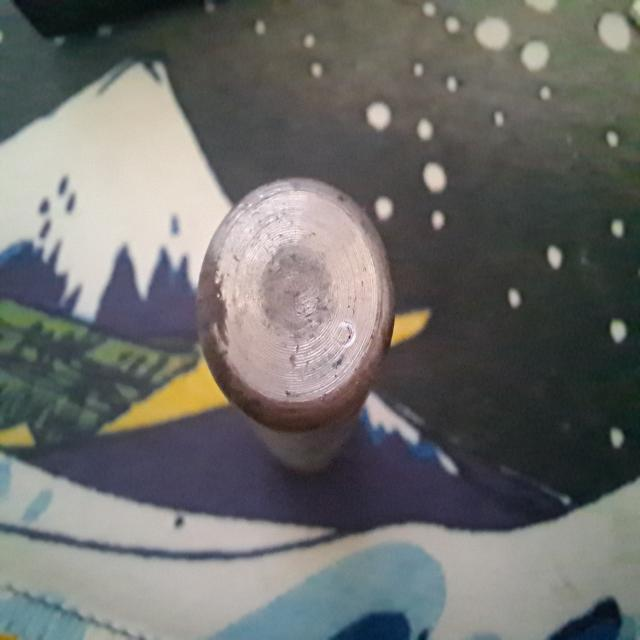defect: (332, 318, 357, 351)
planson: (195, 179, 396, 474)
